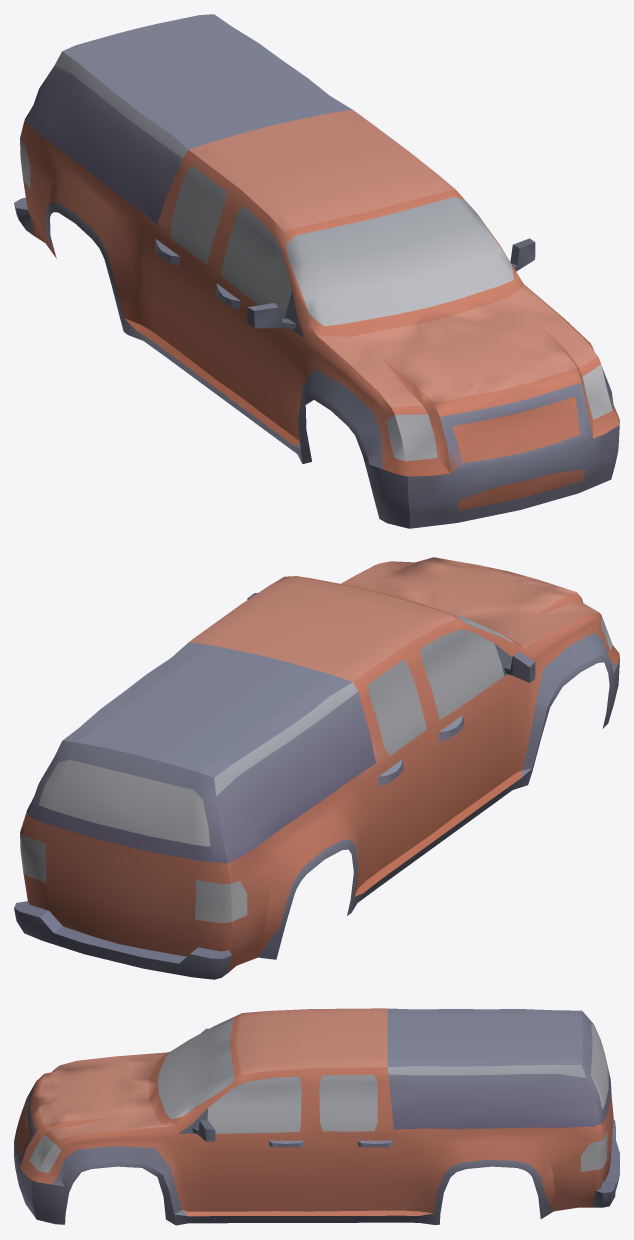
Rendered from pickup_body.glb.
3 views of the same model, one above another, from view 1: azimuth 30°, elevation 25°; view 2: azimuth 150°, elevation 25°; view 3: azimuth 270°, elevation 25° (orthographic). The views are drawn at different scales.
Parts seen in each view (by area): view 1: pickup_body; view 2: pickup_body; view 3: pickup_body.
Boxes of the visible parts, <box> form: pickup_body: <box>14,14,619,528</box>; pickup_body: <box>14,557,619,979</box>; pickup_body: <box>14,1008,619,1225</box>.
Size of the model in its own units: 2.3 by 1.6 by 5.83.
